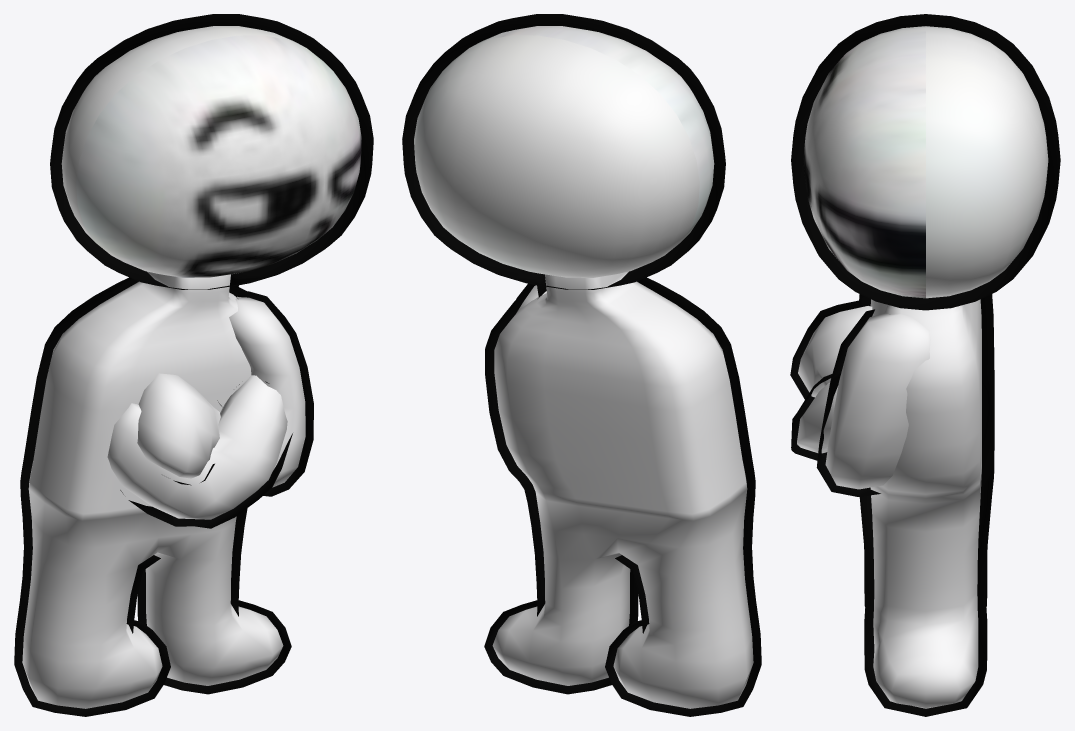
The picture shows the model from 3 angles, left to right: view 1: azimuth 30°, elevation 25°; view 2: azimuth 150°, elevation 25°; view 3: azimuth 270°, elevation 25°; orthographic projection.
Parts seen in each view (by area): view 1: amogus; view 2: amogus; view 3: amogus.
Part boxes in pixels (x1=…): amogus: x1=14, y1=14, x2=373, y2=716; amogus: x1=402, y1=14, x2=761, y2=716; amogus: x1=790, y1=14, x2=1060, y2=716.
Bounding box in the file's own units: 75.59 × 141 × 51.85.
Materials: 2 (1 with a texture image).
